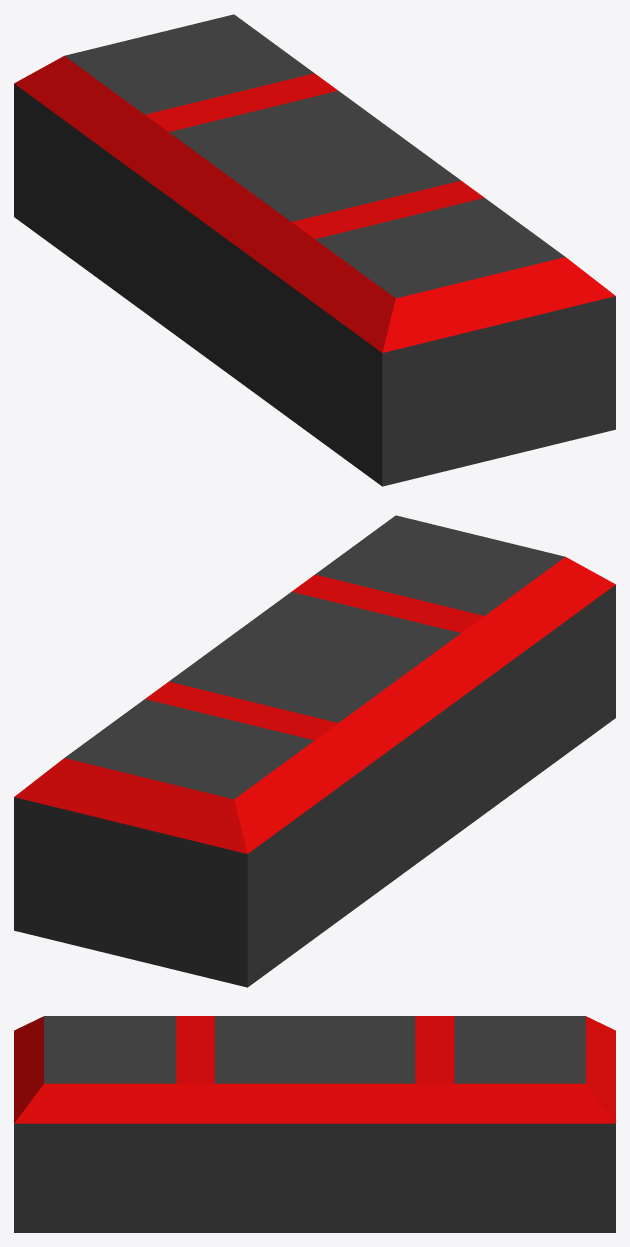
File: Bridge.fbx
3 renders of one model, top to bottom at view 1: azimuth 30°, elevation 25°; view 2: azimuth 150°, elevation 25°; view 3: azimuth 270°, elevation 25°, orthographic. The views are drawn at different scales.
Parts seen in each view (by area): view 1: polySurface7; view 2: polySurface7; view 3: polySurface7.
Part boxes in pixels (left/top/right/bottom): polySurface7: left=14, top=14, right=615, bottom=486; polySurface7: left=14, top=515, right=615, bottom=987; polySurface7: left=14, top=1016, right=615, bottom=1232.
Bounding box in the file's own units: 2.2 × 1.5 × 6.
